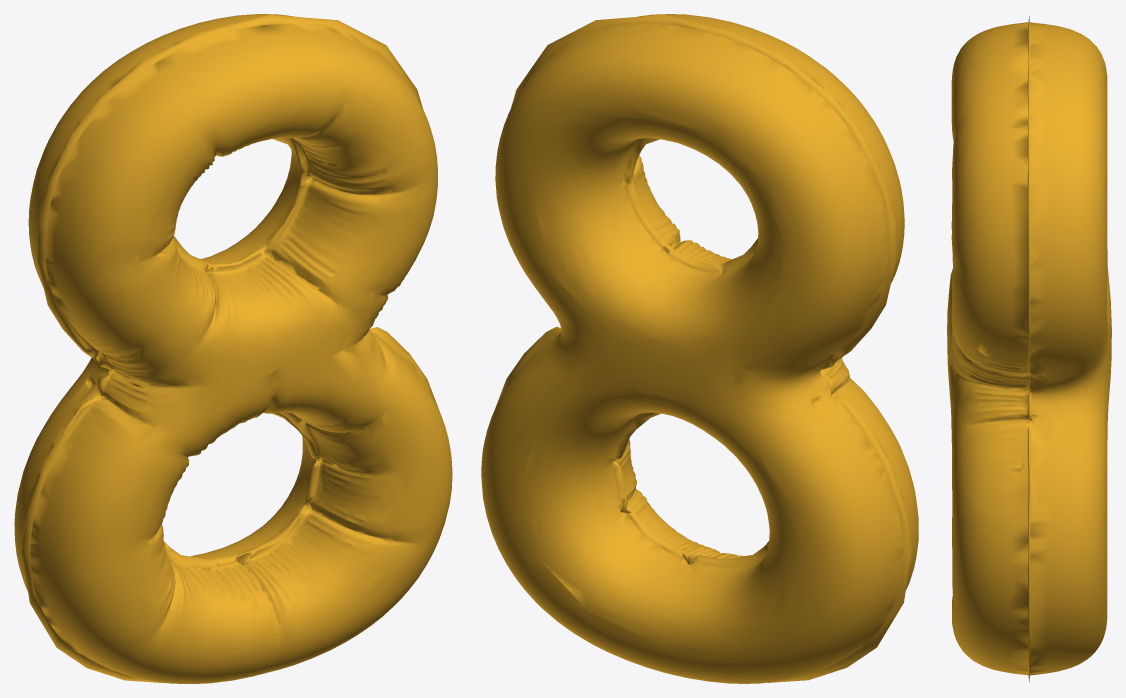
File: zahlen-gold-nr8-gruppe.glb
3 views of the same model, side by side, from view 1: azimuth 30°, elevation 25°; view 2: azimuth 150°, elevation 25°; view 3: azimuth 270°, elevation 25° (orthographic). The views are drawn at different scales.
Visible parts, largest first — view 1: nr8; view 2: nr8; view 3: nr8.
Part boxes in pixels (<box>): nr8: <box>14,14,452,683</box>; nr8: <box>481,14,918,683</box>; nr8: <box>947,16,1111,682</box>.
Size of the model in its own units: 0.4165 by 0.6121 by 0.1495.
